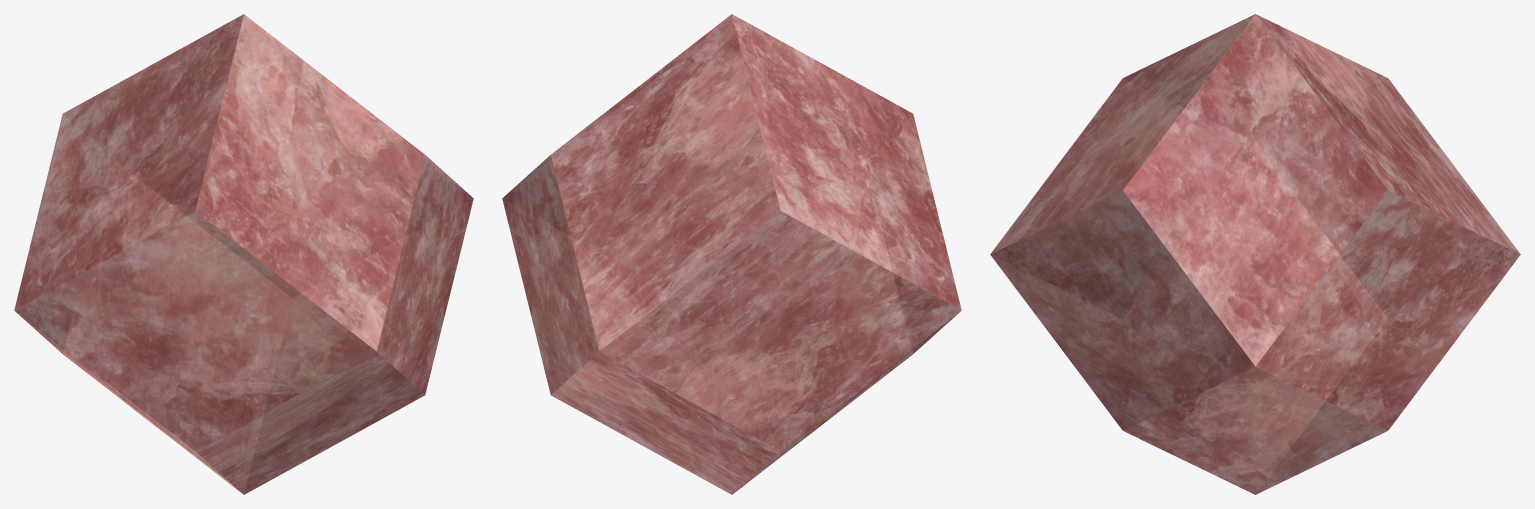
Rendered from RhombicDodecahedron.obj.
The picture shows the model from 3 angles, left to right: view 1: azimuth 30°, elevation 25°; view 2: azimuth 150°, elevation 25°; view 3: azimuth 270°, elevation 25°; orthographic projection.
Bounding box in the file's own units: 2.12 × 2.12 × 2.12.
1 material, 1 textured.
